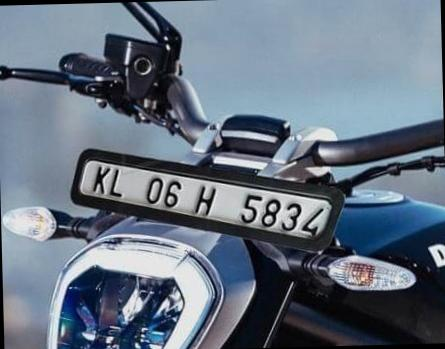plate: (64, 134, 356, 254)
